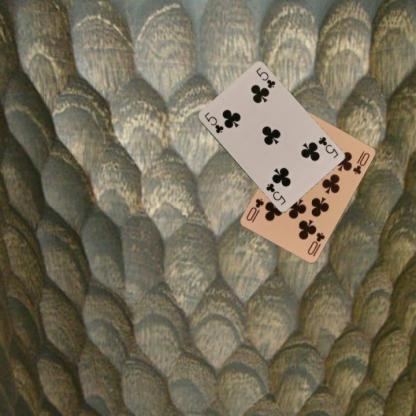10c: (304, 229, 326, 256)
5c: (316, 134, 340, 160), (201, 110, 224, 134)
